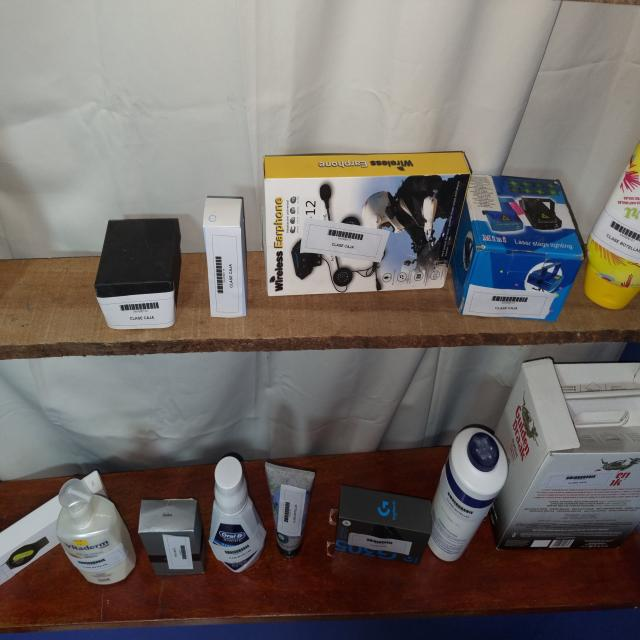botella: (428, 425, 508, 561), (56, 471, 136, 585), (592, 152, 640, 309), (209, 455, 266, 573), (265, 462, 315, 559)
caja: (263, 151, 472, 296), (490, 358, 640, 549), (451, 175, 583, 321), (95, 218, 181, 329), (334, 485, 431, 564), (0, 496, 61, 585), (203, 196, 247, 318), (139, 499, 204, 576)
